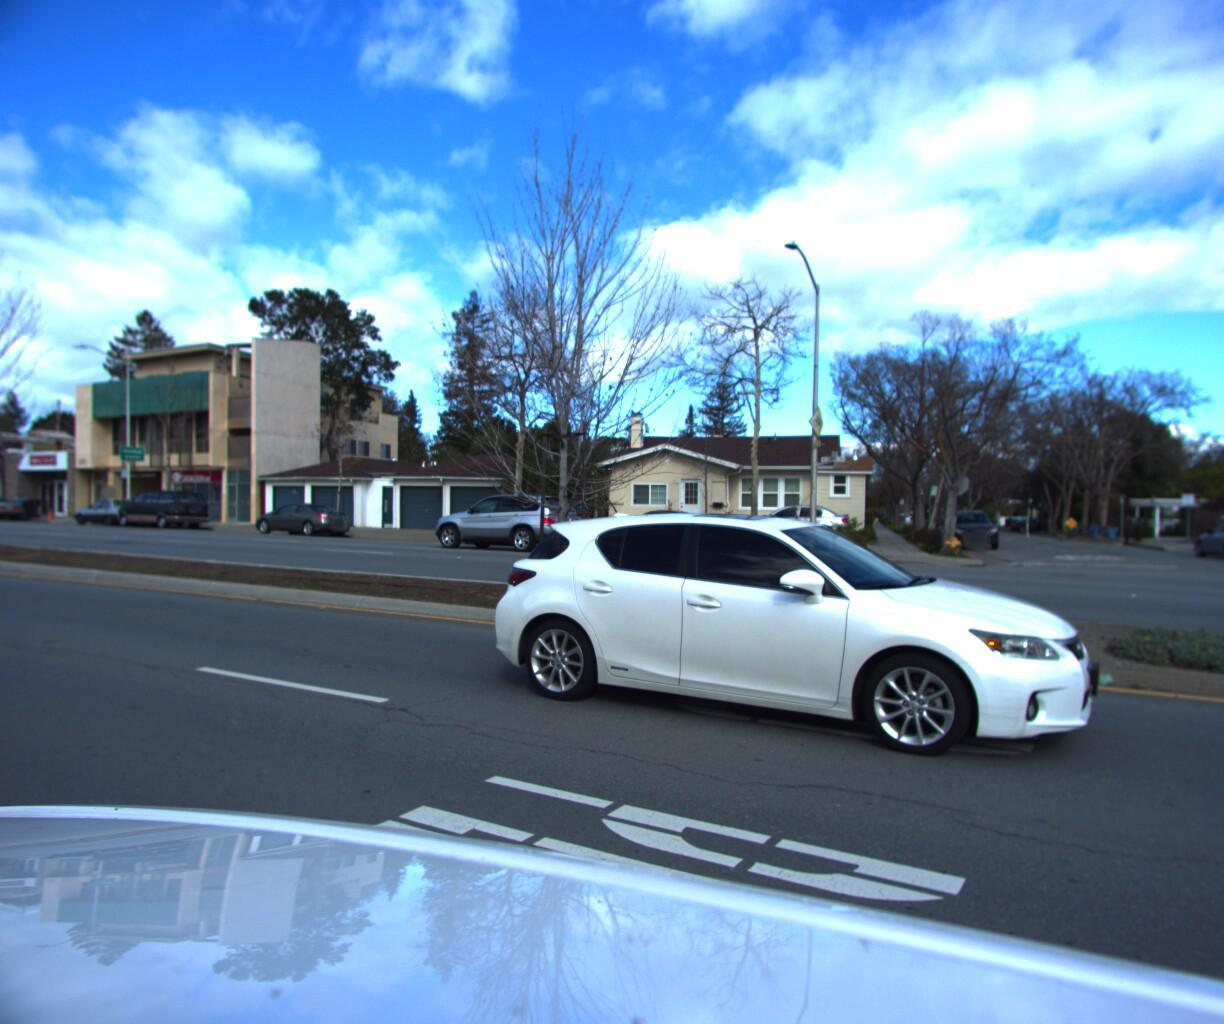car: (481, 500, 1090, 775), (424, 486, 588, 553), (440, 495, 595, 551), (579, 508, 741, 556), (726, 502, 856, 539), (108, 494, 211, 533), (243, 504, 353, 540), (62, 502, 148, 530), (939, 511, 1004, 547), (1178, 515, 1224, 559), (0, 500, 28, 525), (1218, 508, 1224, 541)
